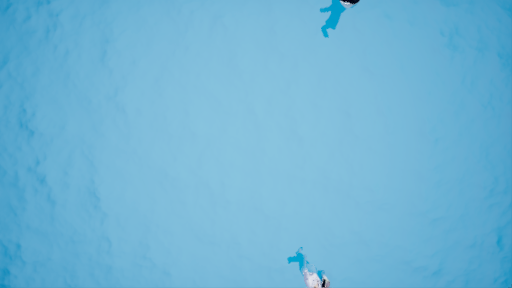person: (283, 247, 340, 288)
